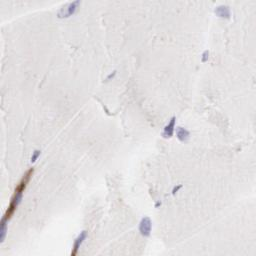nucleus: (138, 215, 153, 238), (58, 1, 79, 17), (162, 116, 175, 138), (175, 126, 189, 143), (1, 219, 8, 244), (215, 6, 229, 17), (31, 150, 41, 161), (173, 184, 182, 192), (15, 192, 22, 202), (202, 50, 208, 61), (107, 72, 115, 77), (155, 202, 161, 207)
positive_cell: (13, 168, 33, 202), (1, 203, 16, 244), (71, 232, 86, 256)
